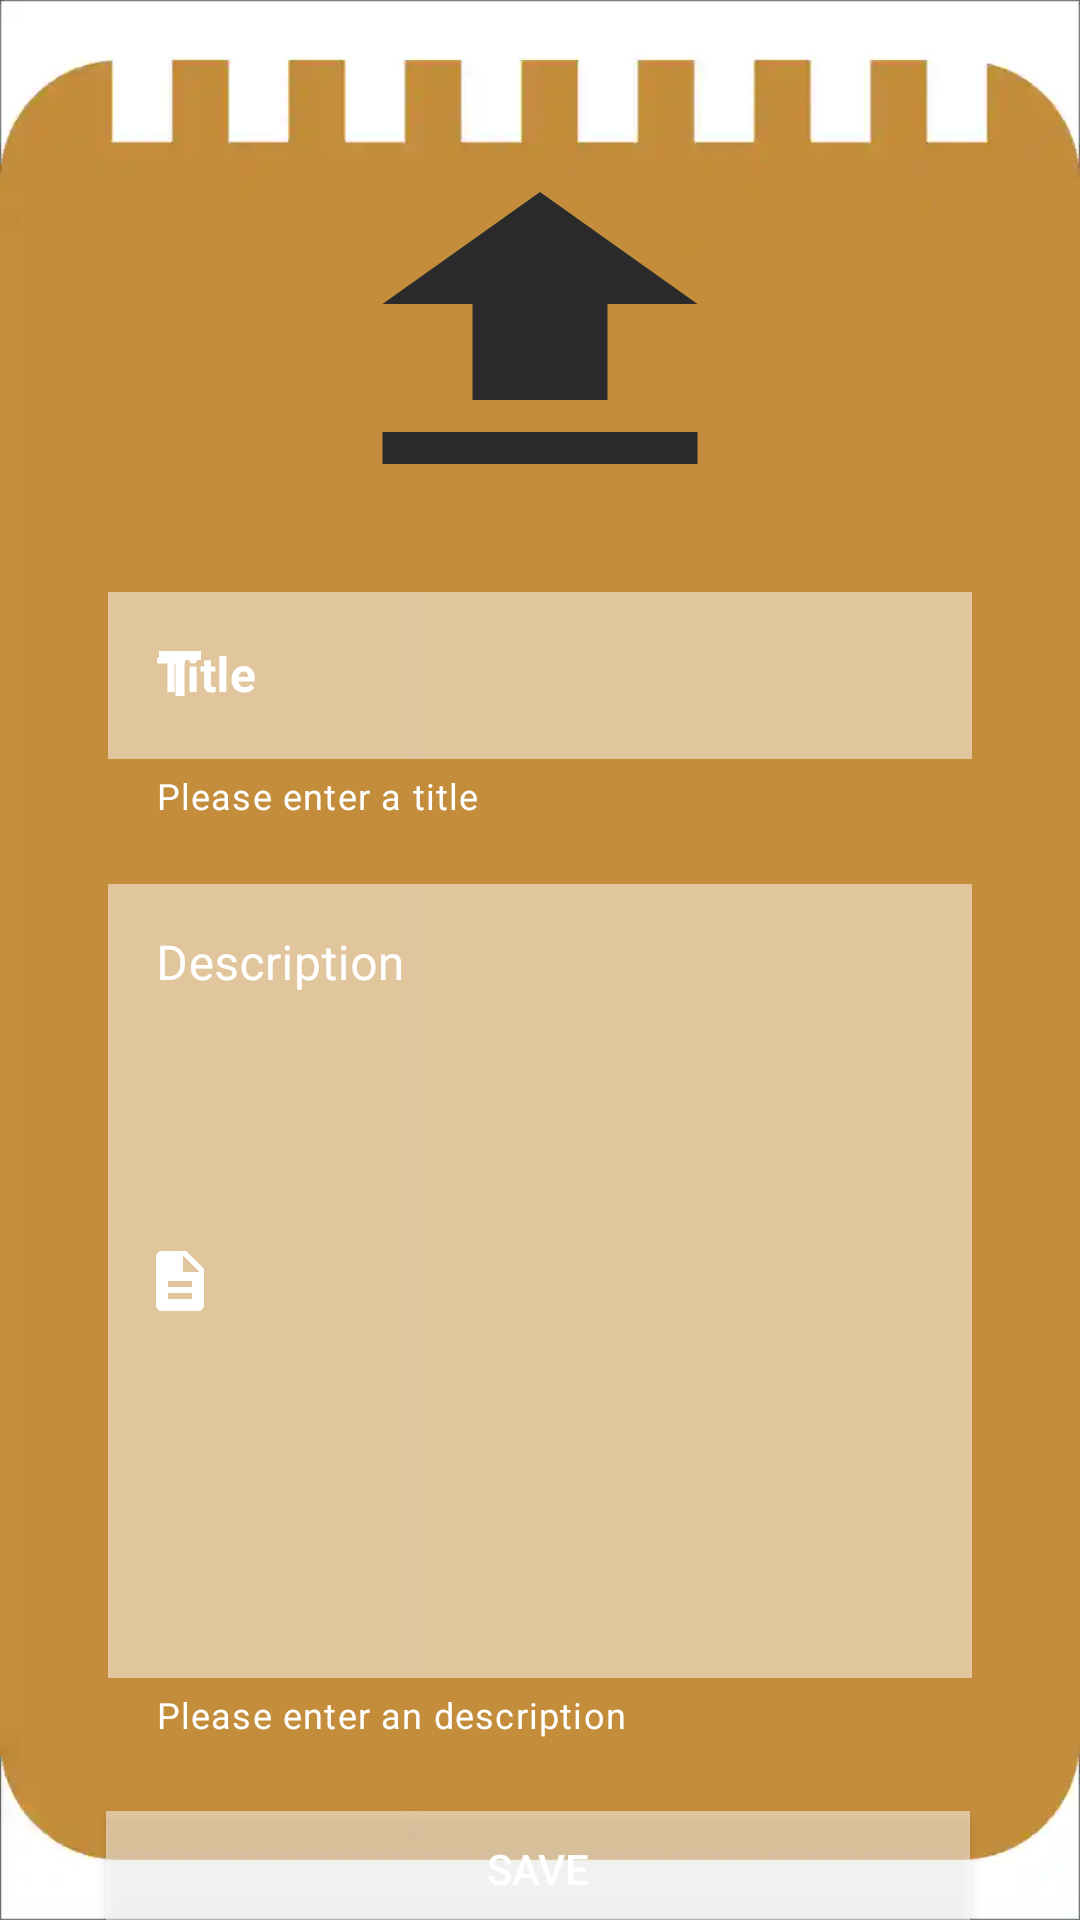

Point at icon controls on the screen. Image size 1080*1920, points as (x,y).
upload: (540,328)
